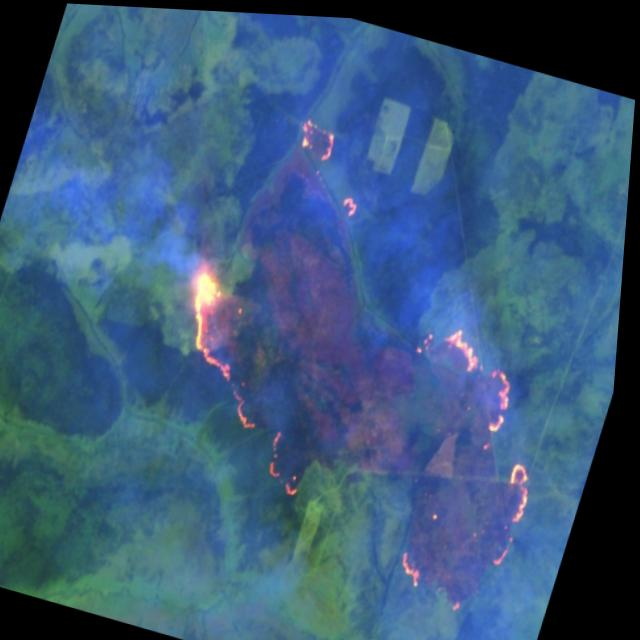fire: (366, 313, 580, 620), (135, 247, 365, 498), (278, 106, 385, 215)
